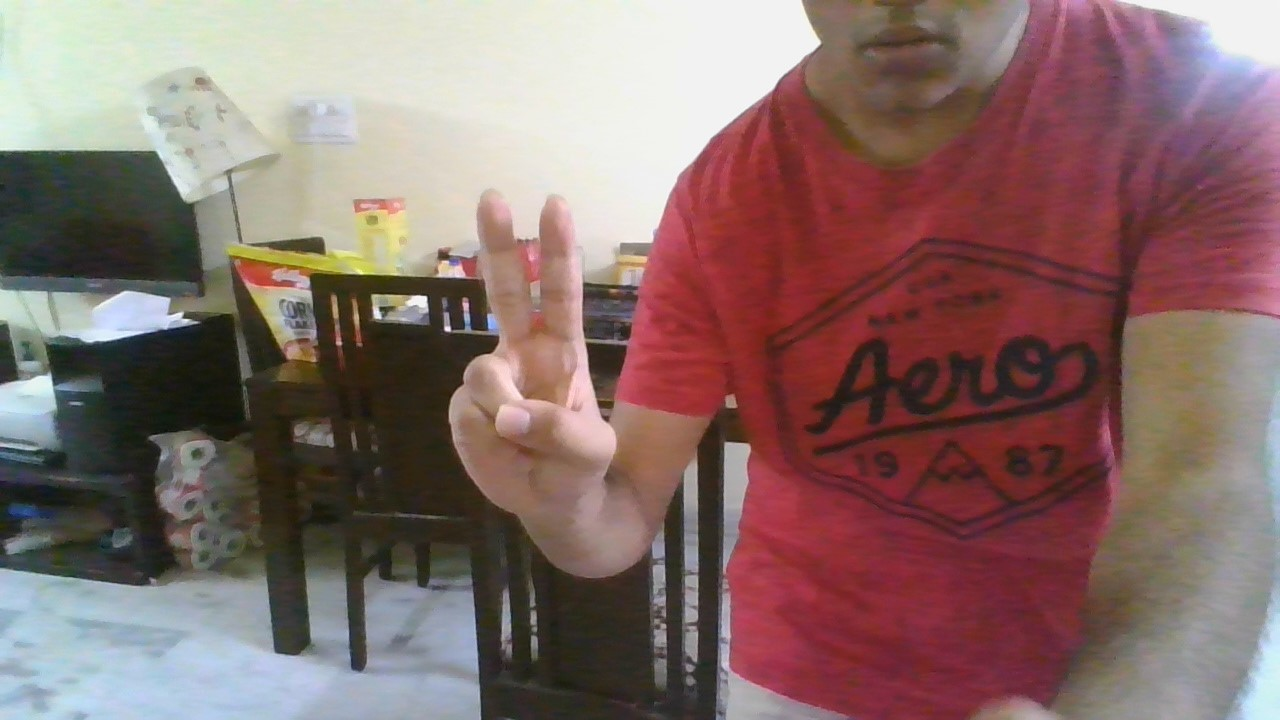v: (442, 174, 627, 522)
